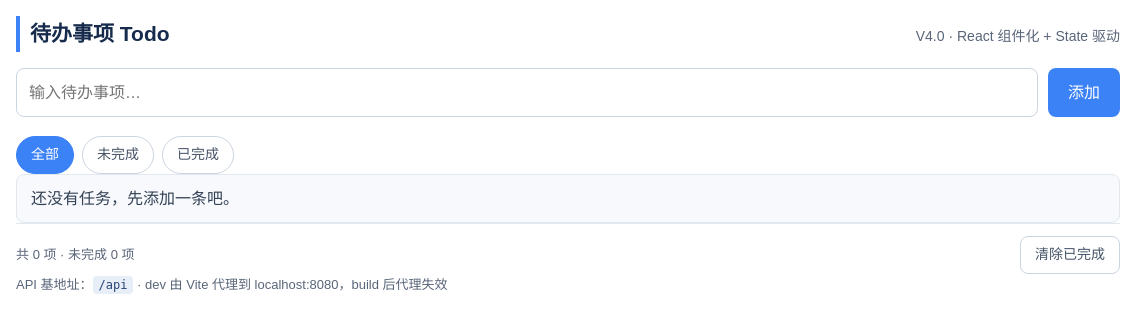
Test: 行为3：点击任务文字切换完成状态，done 类由 State 决定
The width and height of the screenshot is (1137, 312).
Type "任务A" into the field named "待办事项内容" at (527, 92), box [16,68,1038,117]
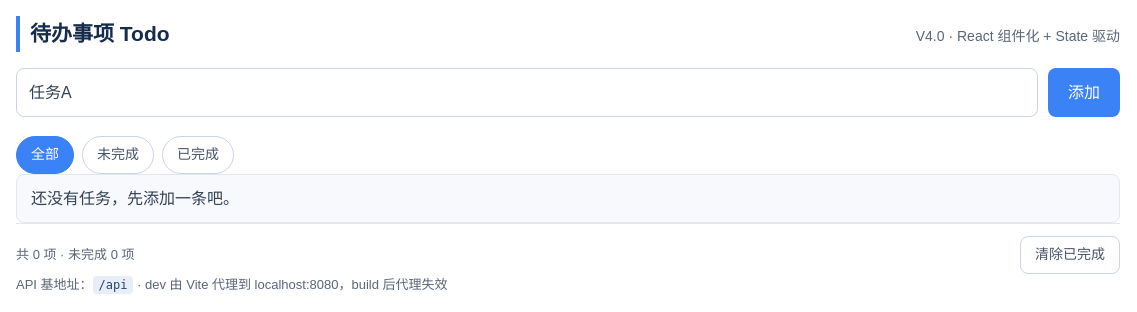
Click the button "添加" at (1084, 92), box [1048,68,1120,117]
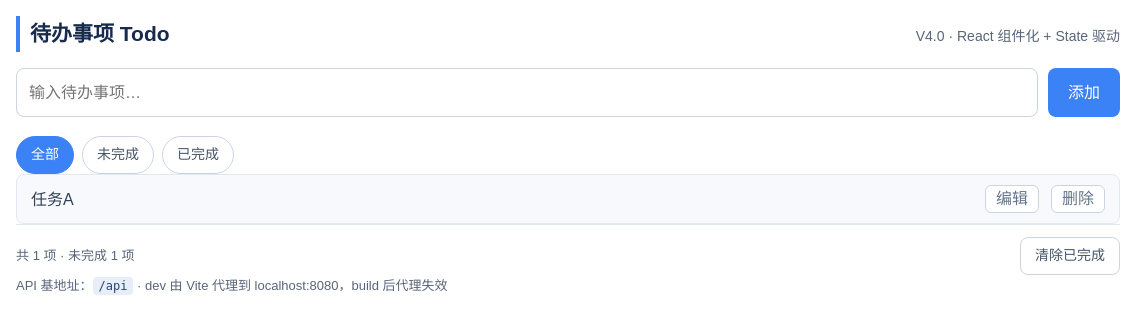
Click the text "任务A" at (52, 199), box [31,191,74,208]
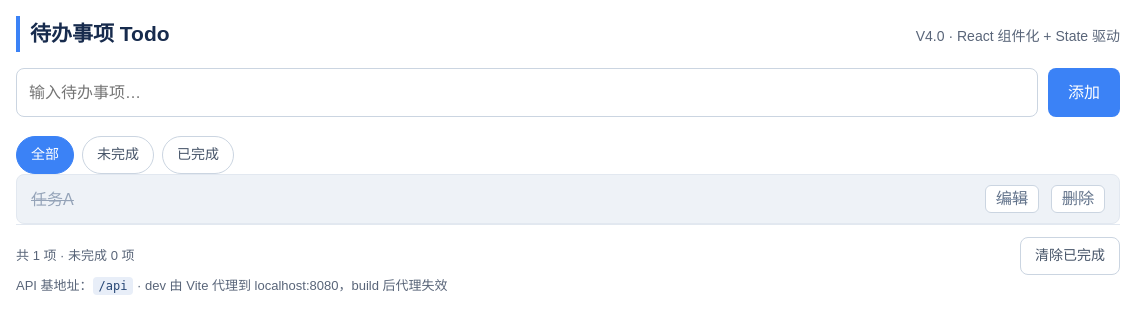
expect the text "共 1 项 · 未完成 0 项" is shown: met, box [16,245,134,267]
